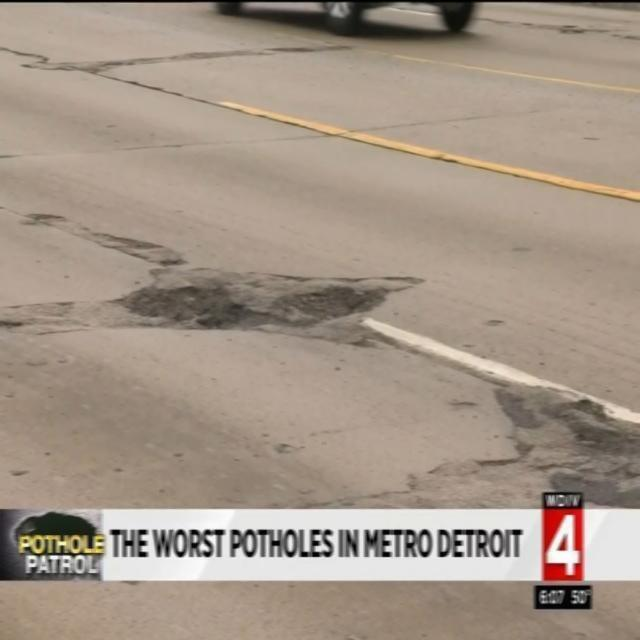Pothole: (110, 260, 430, 344), (479, 370, 640, 507), (124, 43, 347, 74), (5, 41, 116, 84), (87, 226, 191, 266), (0, 298, 84, 343), (19, 201, 73, 235)
